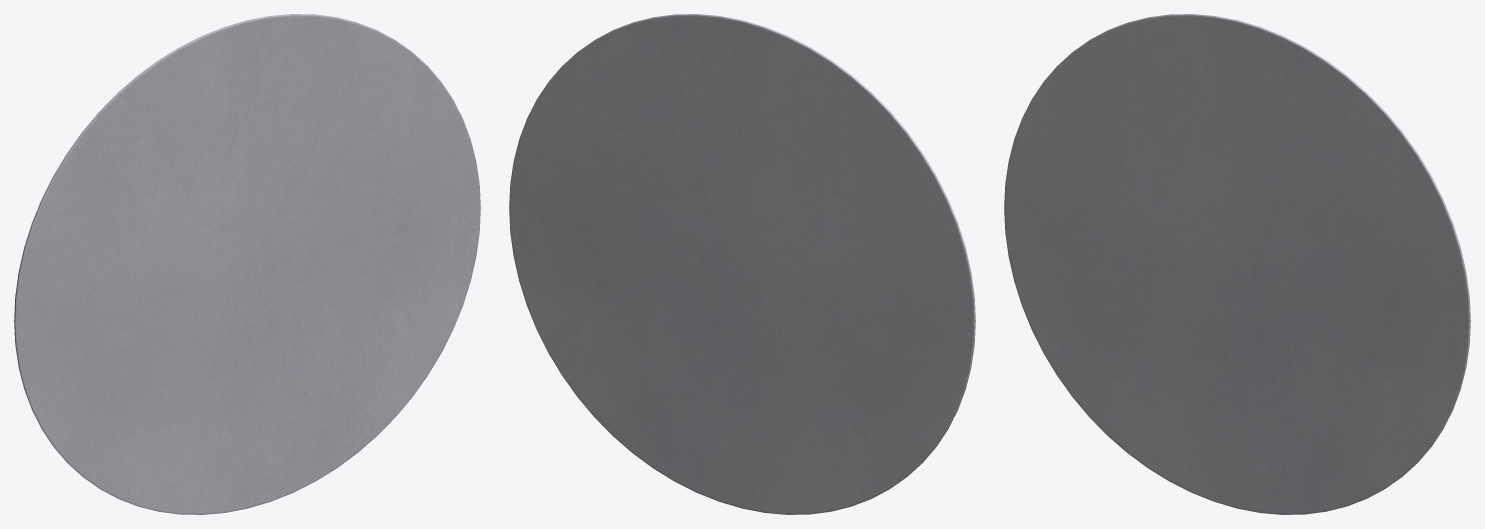
Rendered from button_zenit31.fbx.
The picture shows the model from 3 angles, left to right: view 1: azimuth 30°, elevation 25°; view 2: azimuth 150°, elevation 25°; view 3: azimuth 330°, elevation 25°; orthographic projection.
Visible parts, largest first — view 1: button_zenit31; view 2: button_zenit31; view 3: button_zenit31.
Part boxes in pixels (bbox=[...]): button_zenit31: bbox=[14, 14, 480, 514]; button_zenit31: bbox=[509, 14, 975, 514]; button_zenit31: bbox=[1004, 14, 1470, 514].
Size of the model in its own units: 0.4 by 0.4 by 0.002.
Materials: 1 (1 with a texture image).
